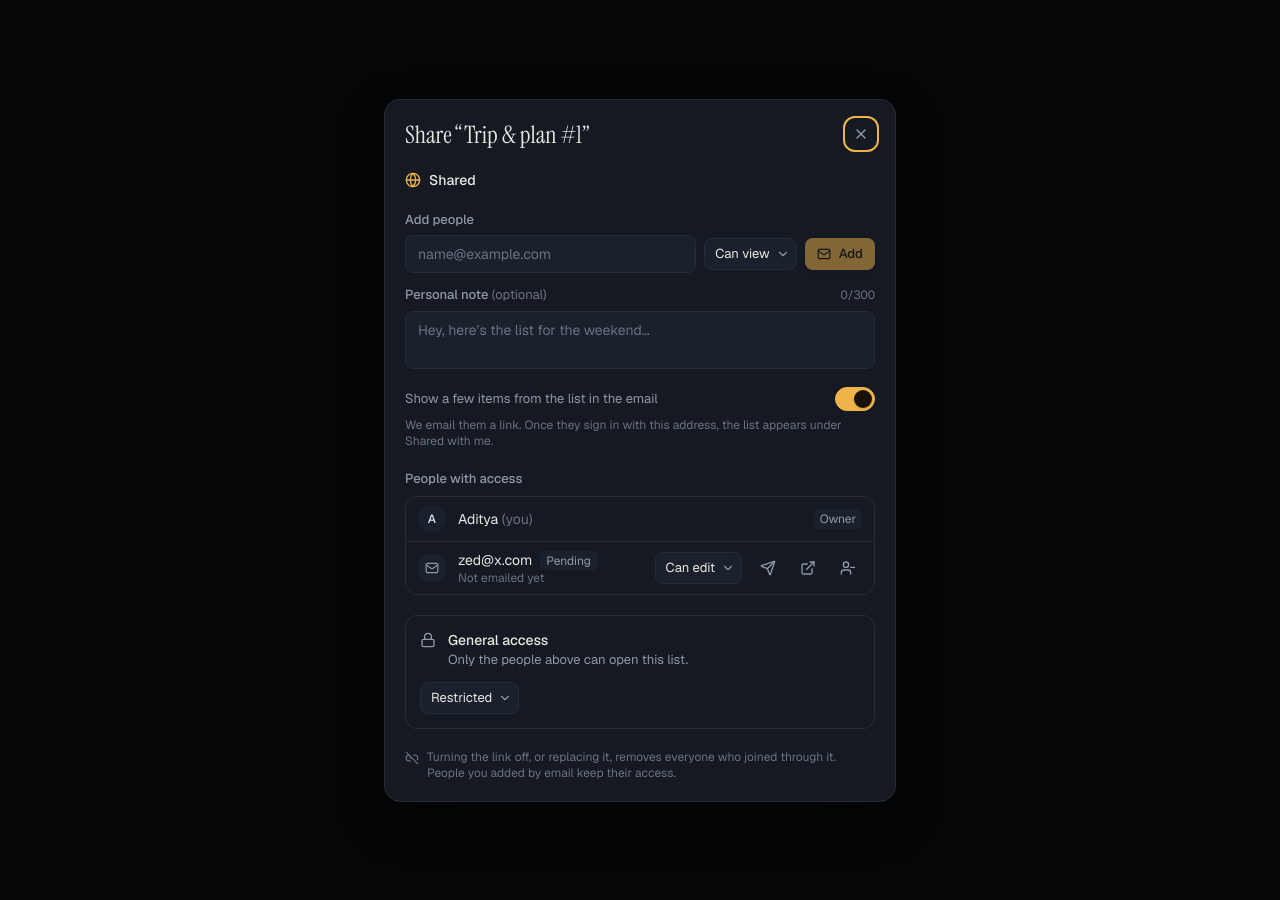
Scenario: pending invites › explains a refusal (cooldown) in plain words
Expected: the heading "People with access" is shown, top-left (405, 470), bottom-right (522, 486)
Click the button named "Email invite to zed@x.com" at (768, 568), box top-left (754, 554), bottom-right (782, 582)
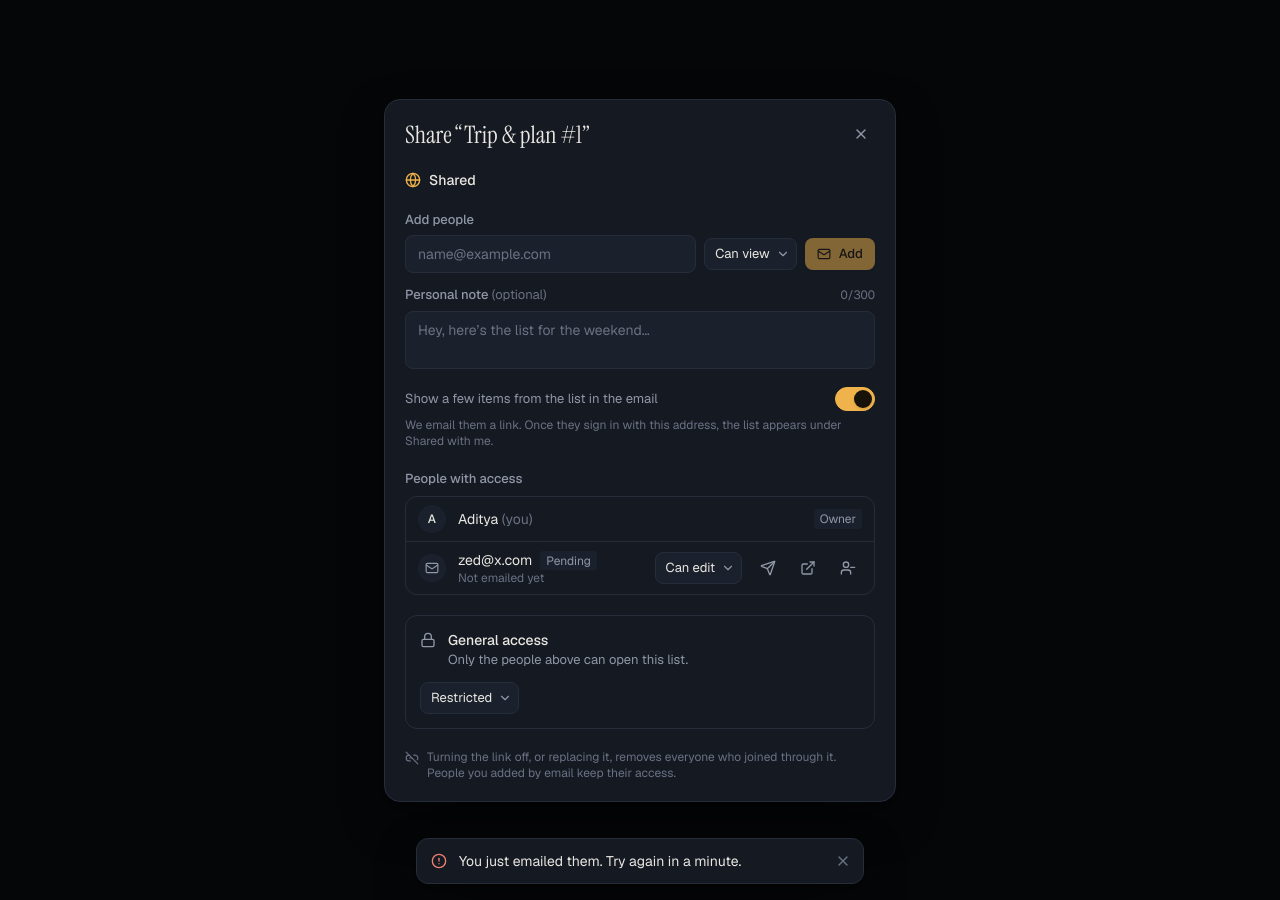
Expected: the text "Not emailed yet" is shown, top-left (458, 570), bottom-right (544, 586)
Expected: the text "You just emailed them. Try again in a minute." is shown, top-left (459, 852), bottom-right (741, 870)
